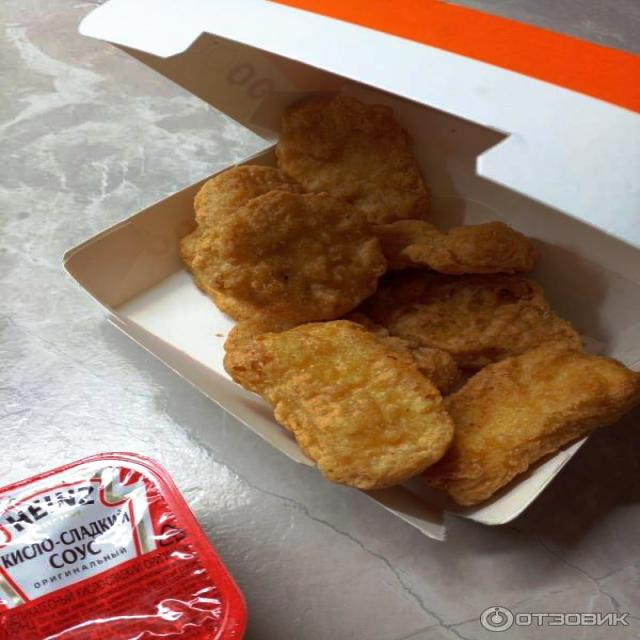chicken_nuggets: (215, 320, 464, 498), (432, 328, 639, 526), (190, 151, 374, 334), (273, 81, 459, 237)
